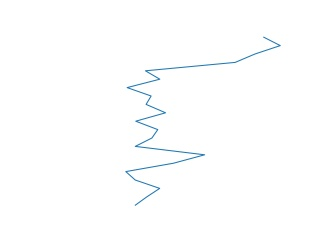crevasseRiverChannelBar: (121, 33, 286, 212)
